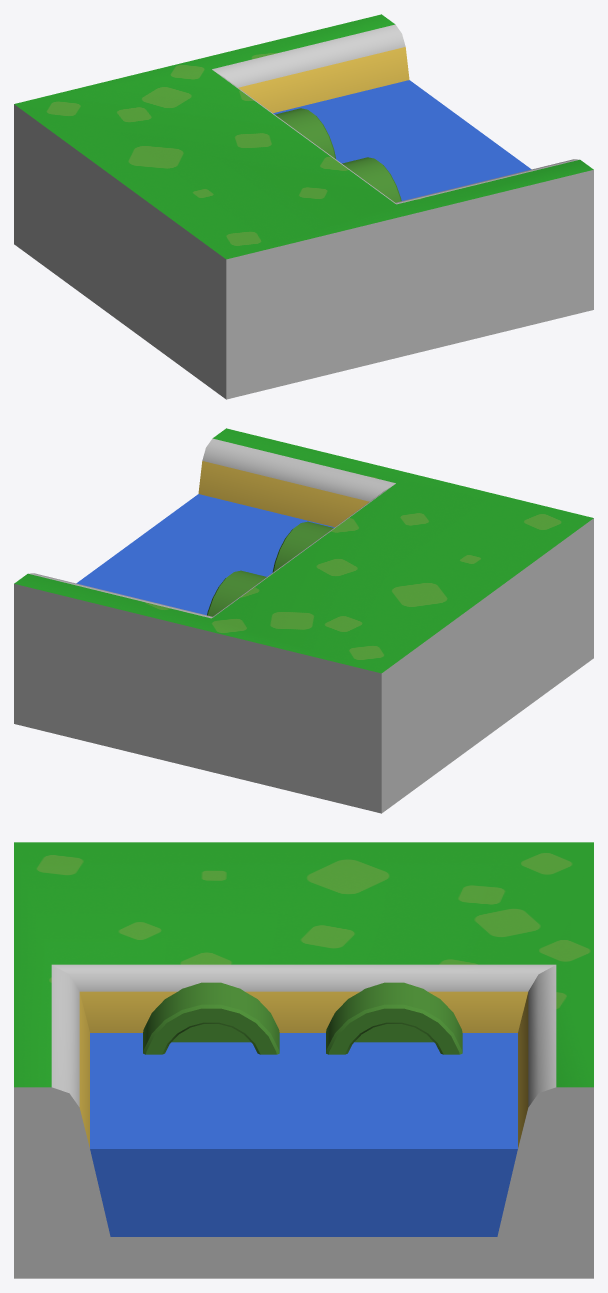
The model's file is RiverTile_4_2.fbx.
3 views of the same model, one above another, from view 1: azimuth 30°, elevation 25°; view 2: azimuth 150°, elevation 25°; view 3: azimuth 270°, elevation 25° (orthographic). The views are drawn at different scales.
Visible parts, largest first — view 1: RiverTile_4_2; view 2: RiverTile_4_2; view 3: RiverTile_4_2.
Part boxes in pixels (left/top/right/bottom): RiverTile_4_2: left=14, top=14, right=593, bottom=399; RiverTile_4_2: left=14, top=428, right=593, bottom=813; RiverTile_4_2: left=14, top=842, right=593, bottom=1278.
Size of the model in its own units: 4 by 1.46 by 4.
